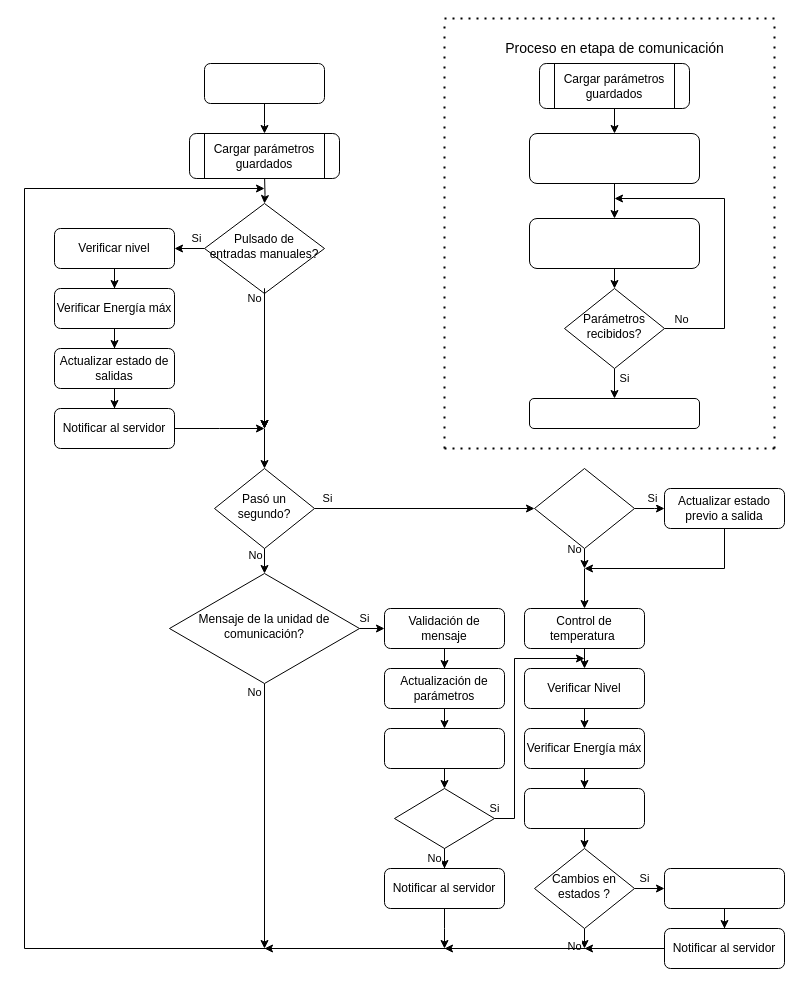
Image size: 802x986. Some labels were removed from this diagram. Each missing label, with the centre of its shape:
Actualizar salida: [724,888]
Aguardar respuesta de la unidad de comunicación: [614,243]
Almacenar parámetros: [614,413]
Encendido por horario?: [584,508]
Guardar parámetros en memoria: [444,748]
INICIO: [264,83]
Mensaje a la unidad de comunicación solicitando parámetros guardados: [614,158]
Modifica estados?: [444,818]
Verificar Ton: [584,808]
